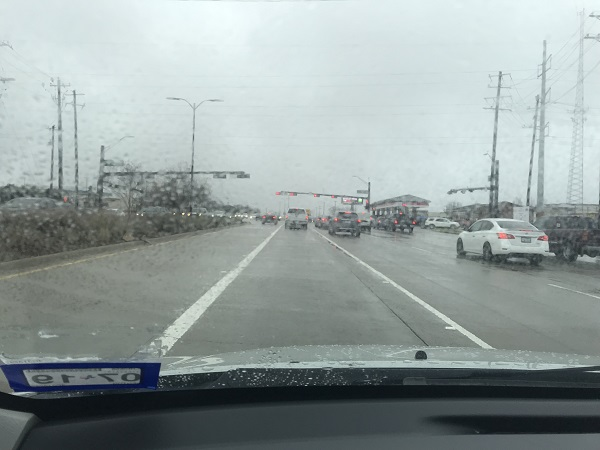car: (456, 218, 550, 264), (329, 211, 359, 236), (423, 214, 458, 228)
truck: (543, 216, 600, 264), (282, 207, 308, 228), (387, 212, 413, 230)
